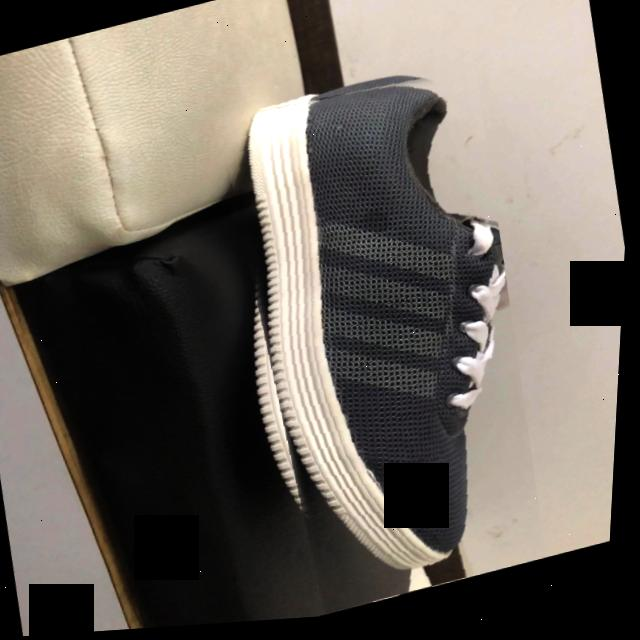shoe: (249, 91, 514, 595)
